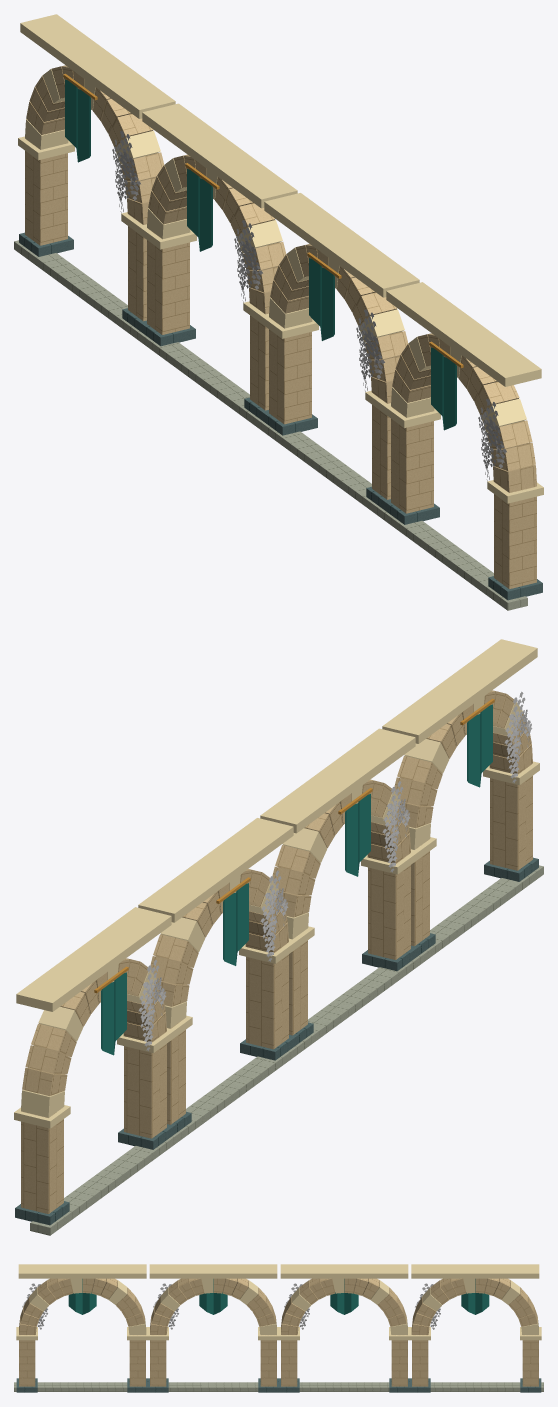
File: district-seaward.obj
3 views of the same model, one above another, from view 1: azimuth 30°, elevation 25°; view 2: azimuth 150°, elevation 25°; view 3: azimuth 270°, elevation 25° (orthographic). The views are drawn at different scales.
Size of the model in its own units: 1.53 by 8.7 by 34.
Materials: 7 (4 with a texture image).
